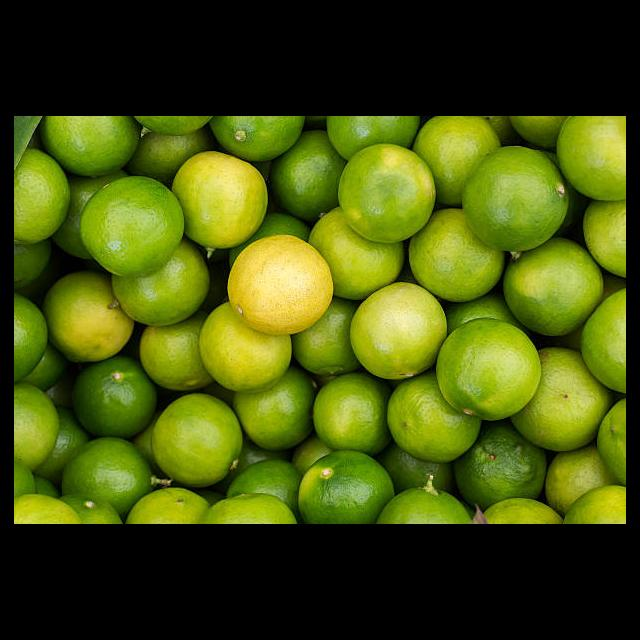lime: (461, 146, 570, 254), (226, 235, 335, 337), (78, 177, 186, 277), (435, 320, 541, 421), (337, 145, 437, 243), (150, 395, 244, 489), (296, 451, 398, 524)
